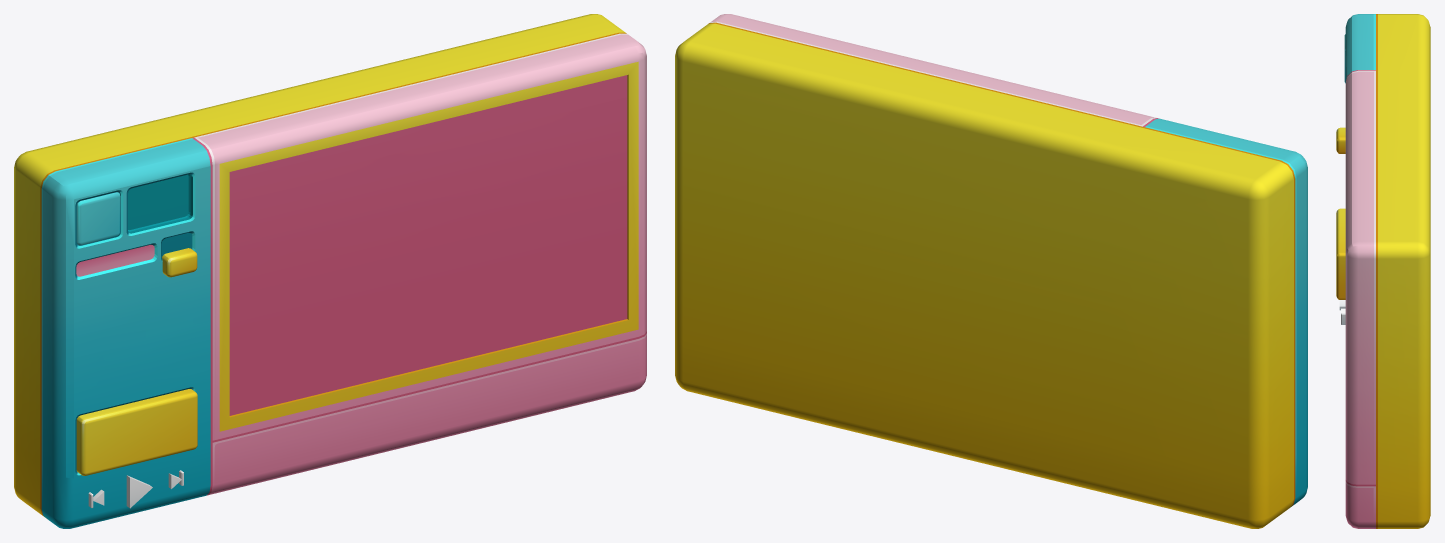
File: CassettePlayer_V3.fbx
3 renders of one model, left to right at view 1: azimuth 30°, elevation 25°; view 2: azimuth 150°, elevation 25°; view 3: azimuth 270°, elevation 25°, orthographic. The views are drawn at different scales.
Visible parts, largest first — view 1: Cassette_Lid, Walkman_Base, Button_Instrument, Button_Settings, Button_Eject; view 2: Walkman_Base, Cassette_Lid; view 3: Walkman_Base, Cassette_Lid, Button_Instrument, Button_Eject.
Boxes of the visible parts, box(x1,y1,x2,y2) form: Cassette_Lid: box(194, 33, 646, 440); Walkman_Base: box(14, 14, 646, 528); Button_Instrument: box(76, 389, 197, 475); Button_Settings: box(76, 192, 120, 245); Button_Eject: box(162, 248, 197, 277); Walkman_Base: box(675, 22, 1307, 528); Cassette_Lid: box(710, 14, 1156, 126); Walkman_Base: box(1345, 14, 1430, 528); Cassette_Lid: box(1345, 70, 1375, 484); Button_Instrument: box(1336, 208, 1345, 299); Button_Eject: box(1336, 127, 1345, 153).
Bounding box in the file's own units: 14.59 × 8.21 × 2.44.
